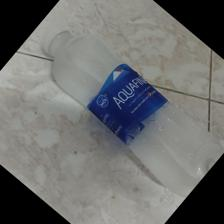Aquafina: (43, 22, 224, 195)
